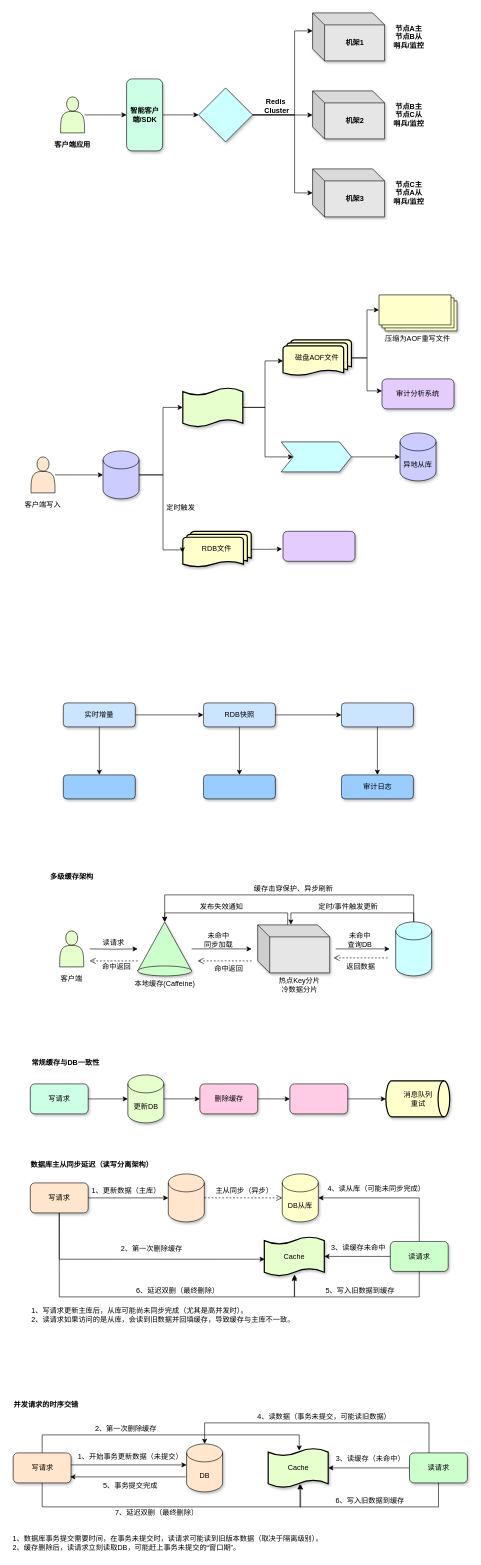
The diagram is 481 pixels wide and 1565 high, and some of its shapes have lost their labels. Here are the shapes that lost their labels. From the top down, the centre of each, then its label:
At [226,115]: "配置中心 ZK/Nacos".
At [213,408]: "AOF缓冲区".
At [121,475]: "内存 数据库".
At [316,457]: "复制流".
At [319,547]: "S3 ObjectStorage".
At [377,715]: "AOF日志".
At [99,787]: "跨机房复制".
At [239,787]: "S3备份".
At [294,949]: "Redis集群".
At [414,949]: "DB 持久化".
At [319,1099]: "延迟双删".
At [186,1198]: "DB主库".
